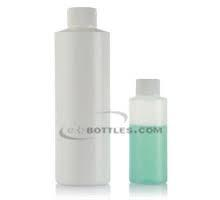Container for household chemicals: (34, 2, 122, 192), (135, 68, 186, 187)
